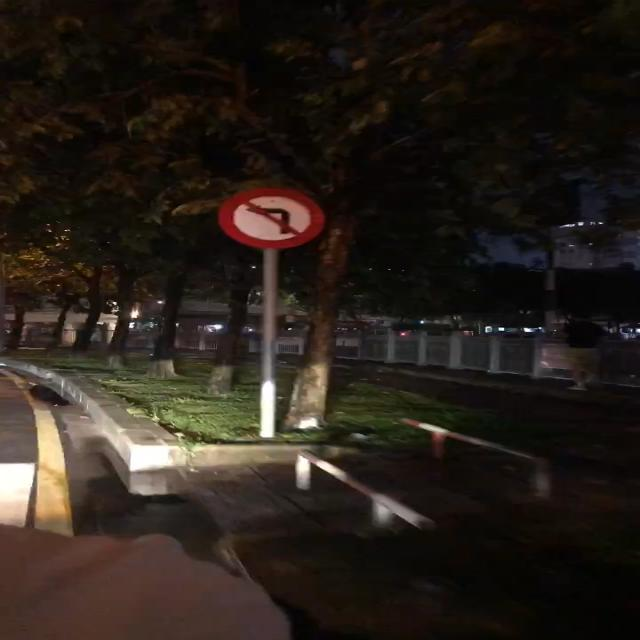Bien bao cam re trai: (214, 184, 334, 256)
